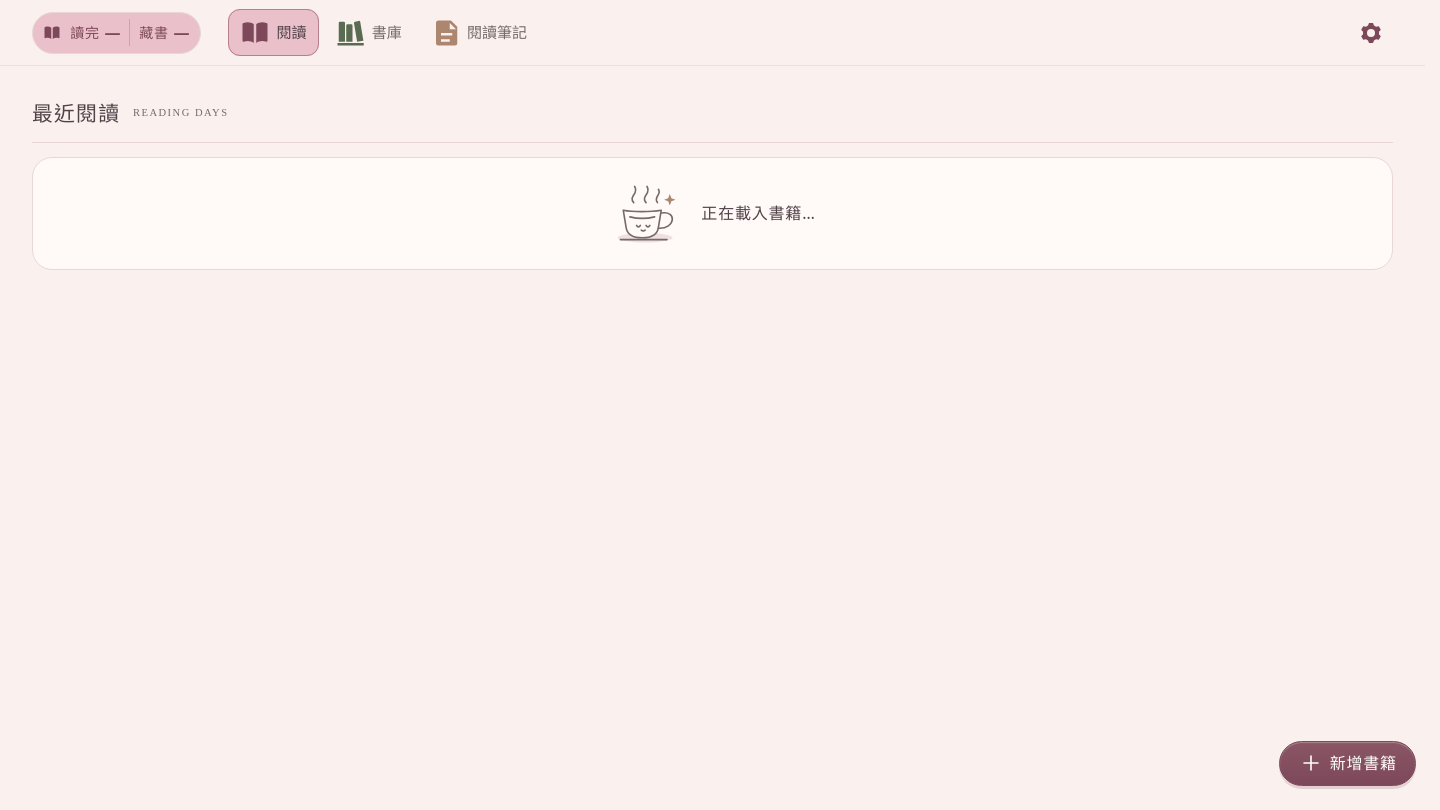
Test: single-book editing › keeps the draft visible when a concurrent revision prevents saving
Click the button "書庫".
click(369, 33)  # box x1=323 y1=9 x2=414 y2=56
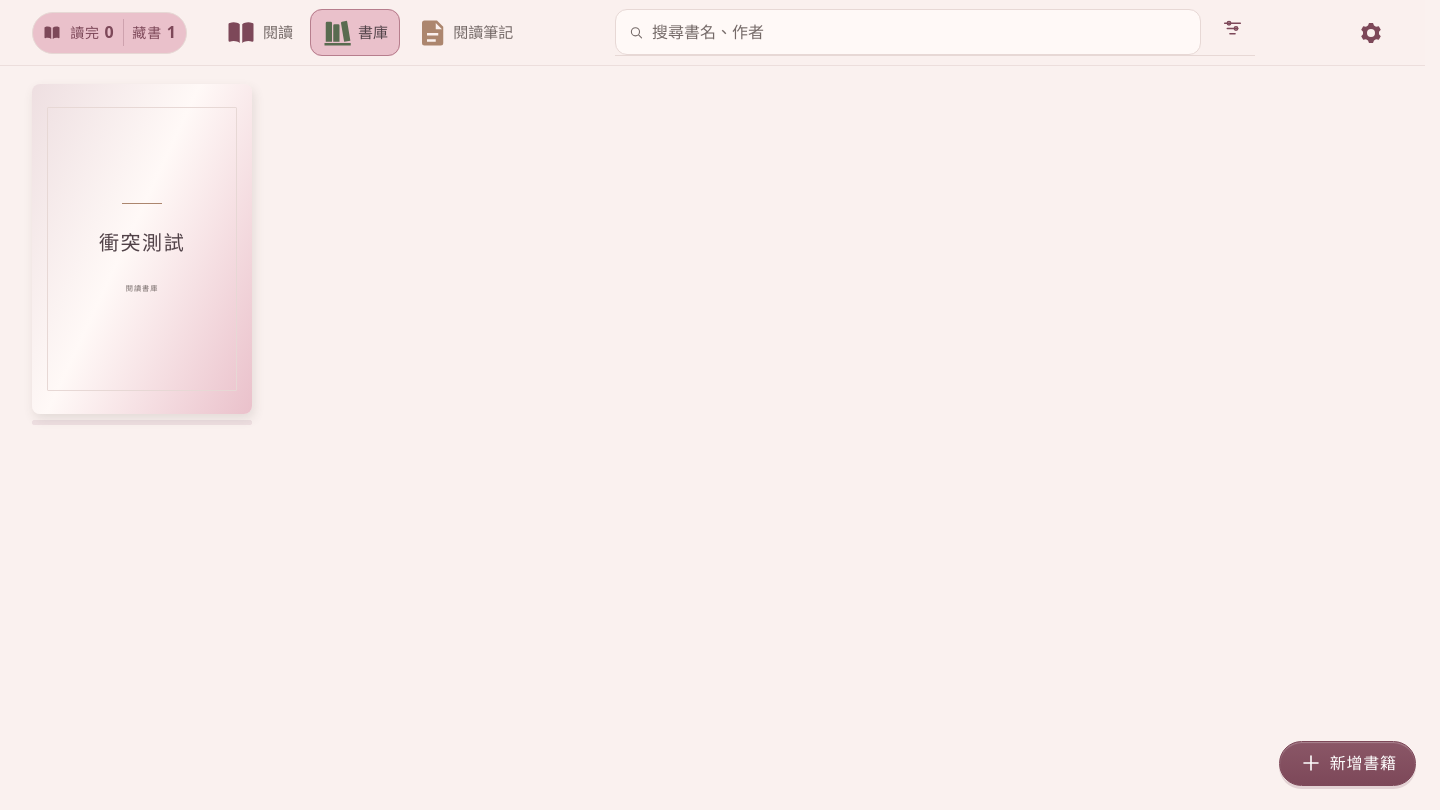
Click the button with aria-label "開啟《".
click(142, 249)  # box x1=32 y1=84 x2=252 y2=414
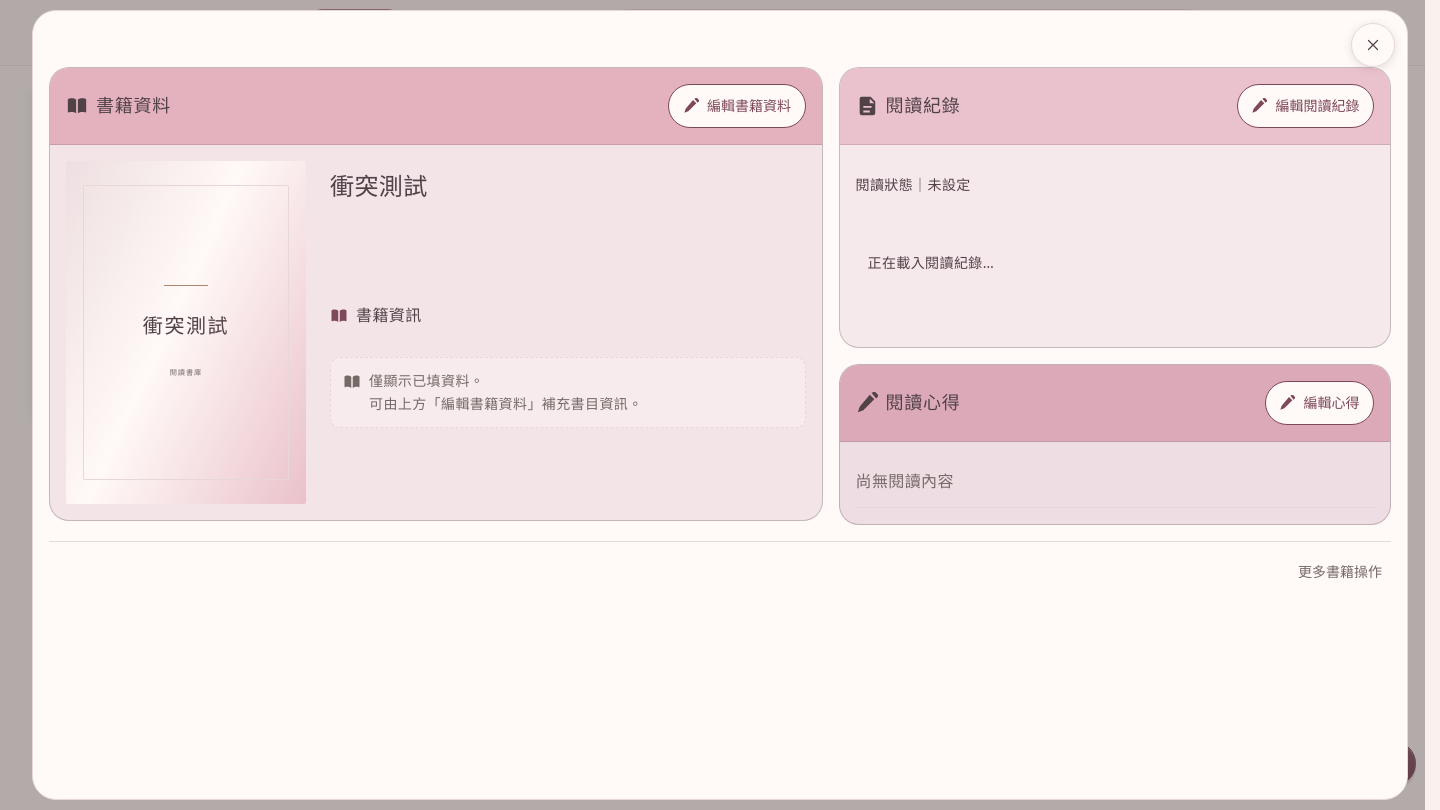
Click the button "編輯書籍資料".
click(737, 106)  # box x1=668 y1=84 x2=806 y2=128
(page scrolled)
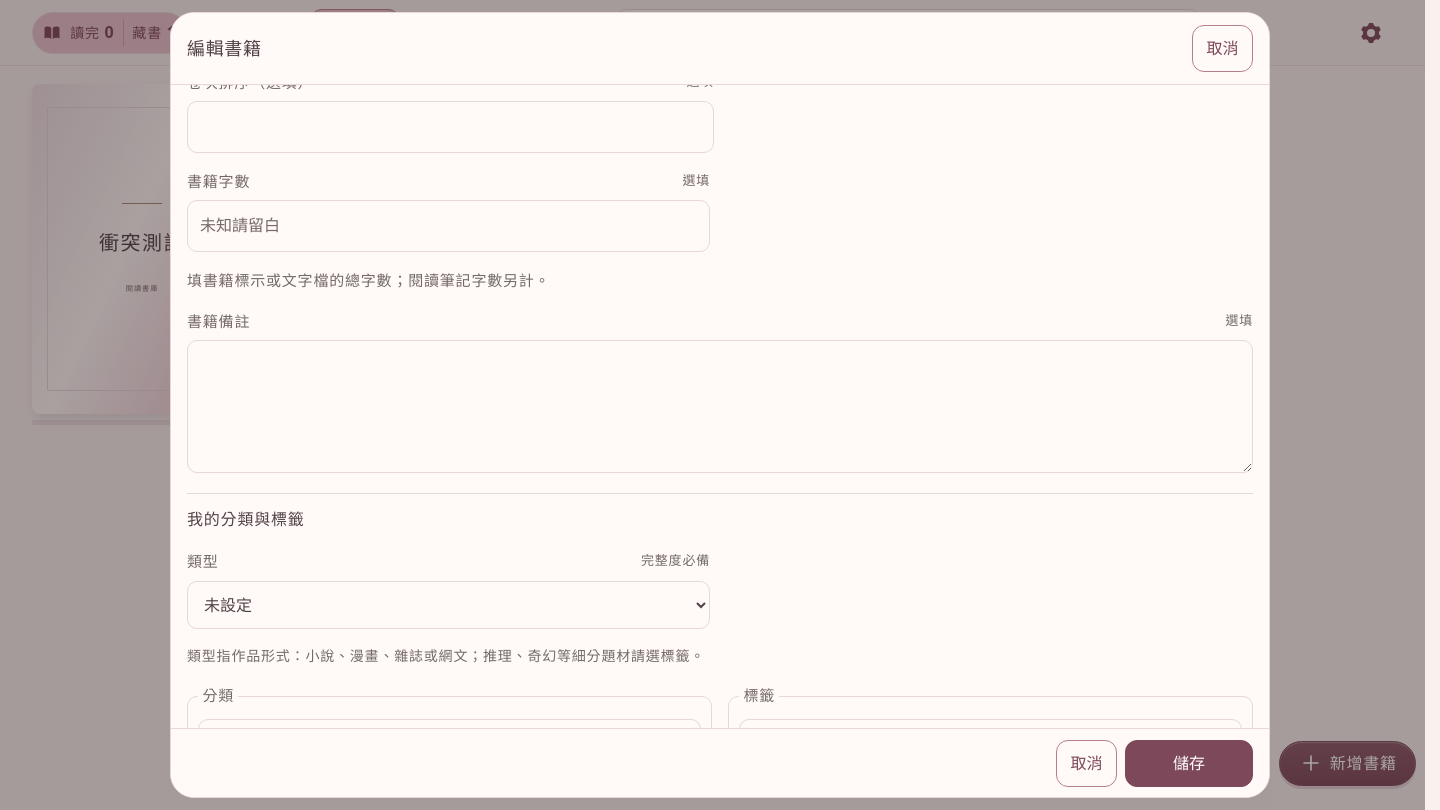
Type "本機草稿" into the text box labelled "書籍備註".
click(720, 407); type("本機草稿")  # box x1=187 y1=340 x2=1253 y2=473
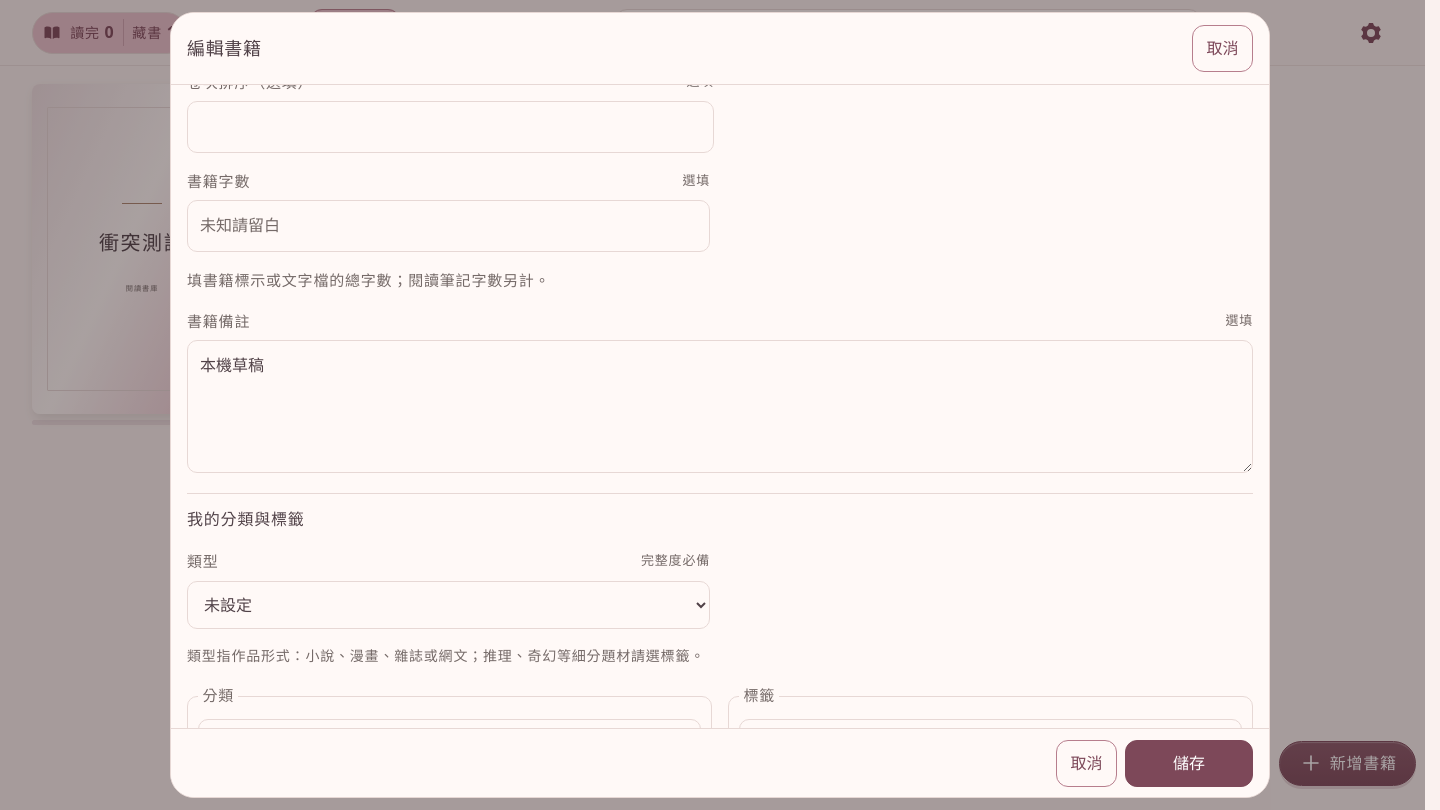
Click the button "儲存".
click(1189, 763)  # box x1=1125 y1=740 x2=1253 y2=787
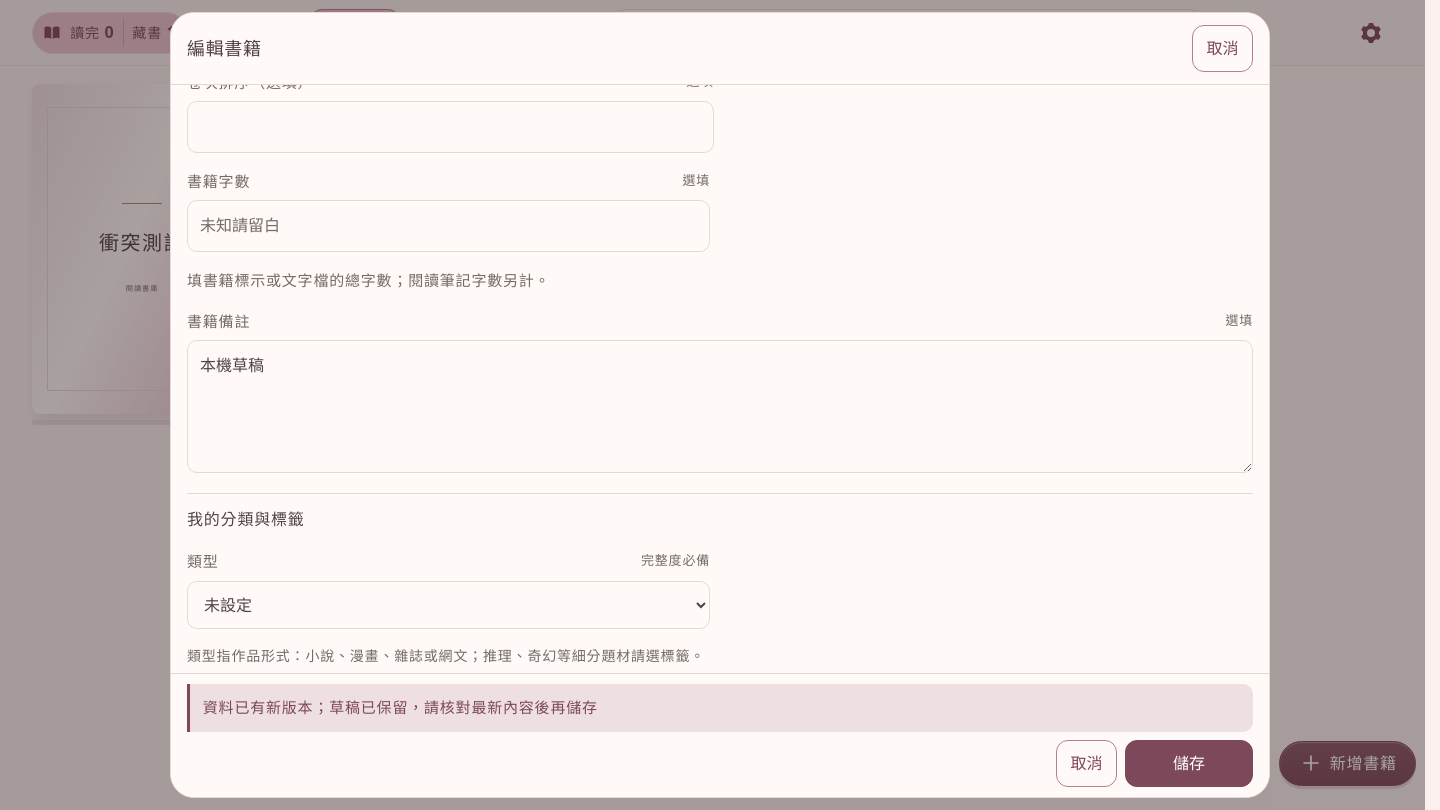
Check: the text "資料已有新版本；草稿已保留，請核對最新內容後再儲存" is shown, box x1=187 y1=684 x2=1253 y2=732
